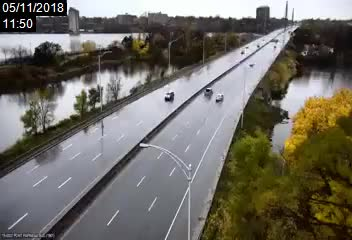personal_car: (214, 94, 226, 103), (164, 91, 174, 100), (205, 88, 214, 96)
